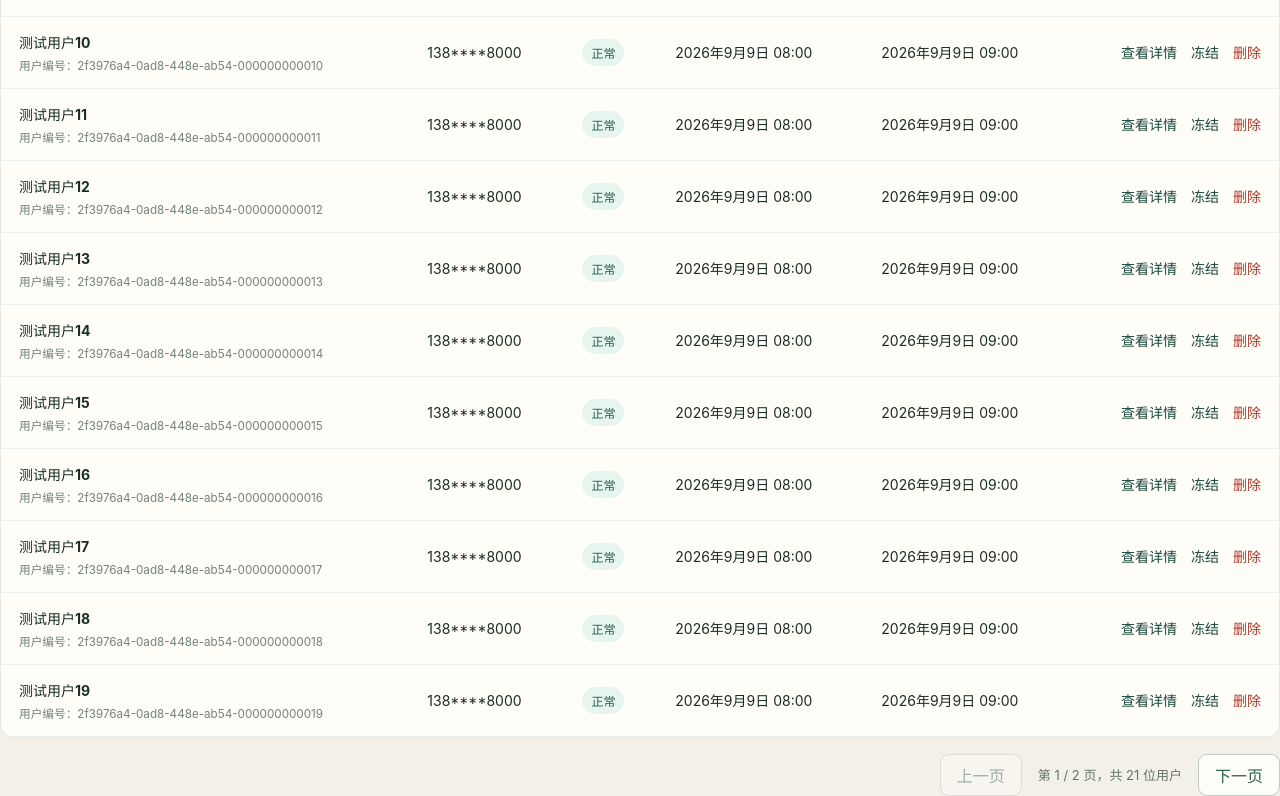
UsersPage › returns to the previous page when deleting the last user on the last page
(page scrolled)
Click the button "下一页" at (1239, 775), box [1198,754,1279,795]
(page scrolled)
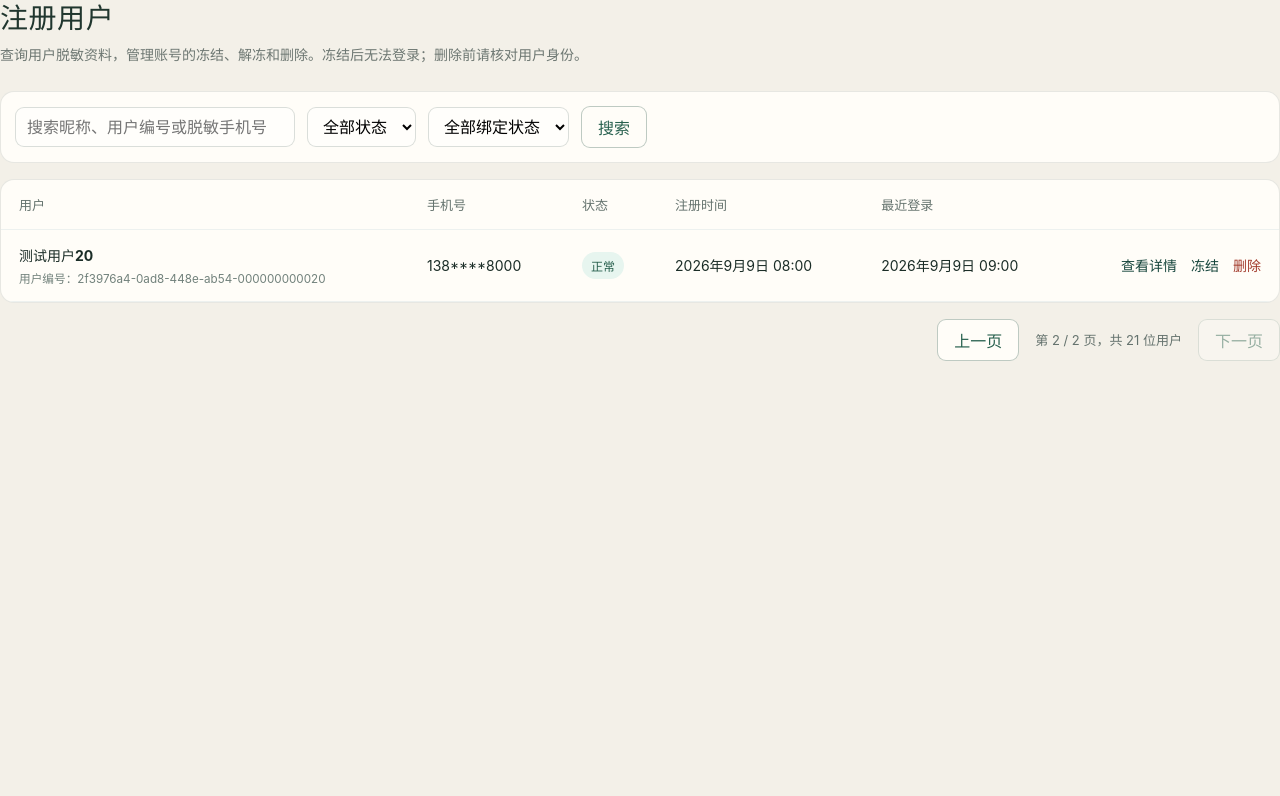
Check: the text "测试用户20" is shown, box [19,247,93,264]
Click the button "删除" at (1247, 265), box [1233,248,1261,282]
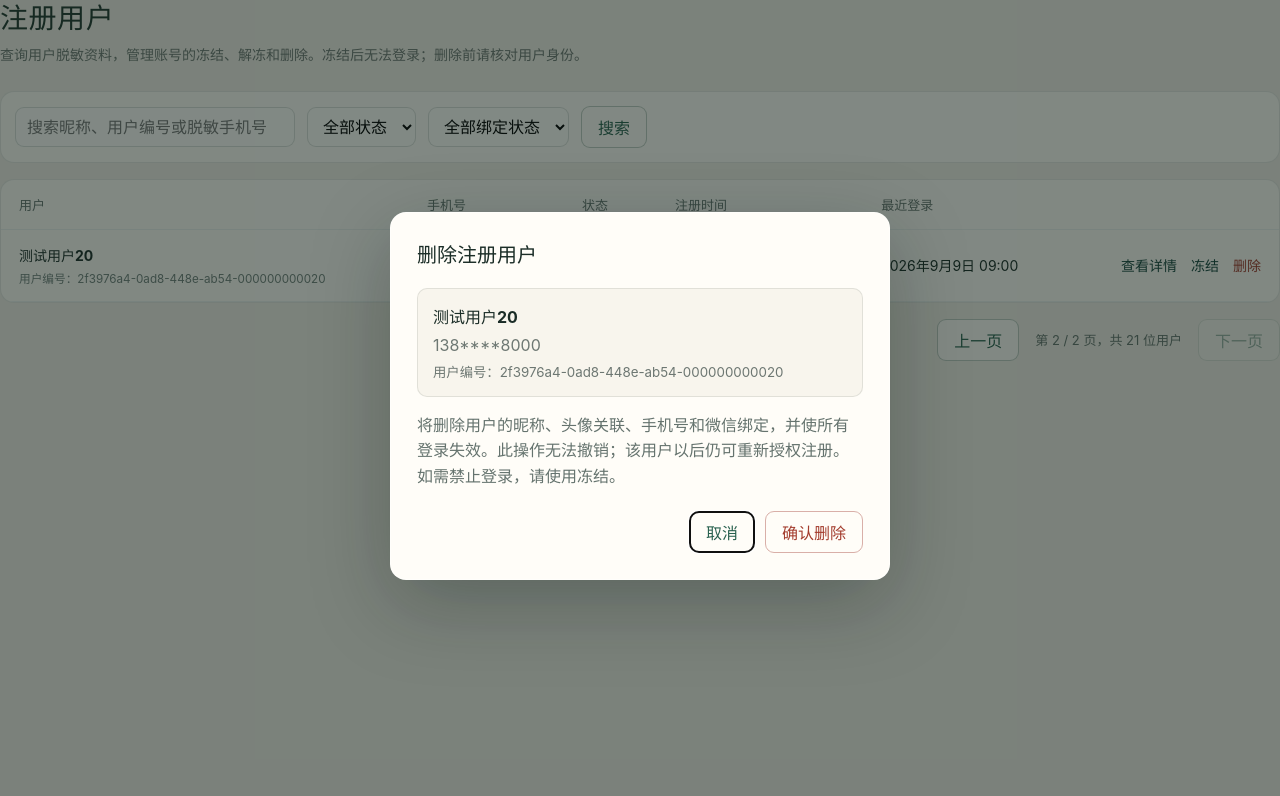
Click the button "确认删除" at (814, 532), box [765,511,863,553]
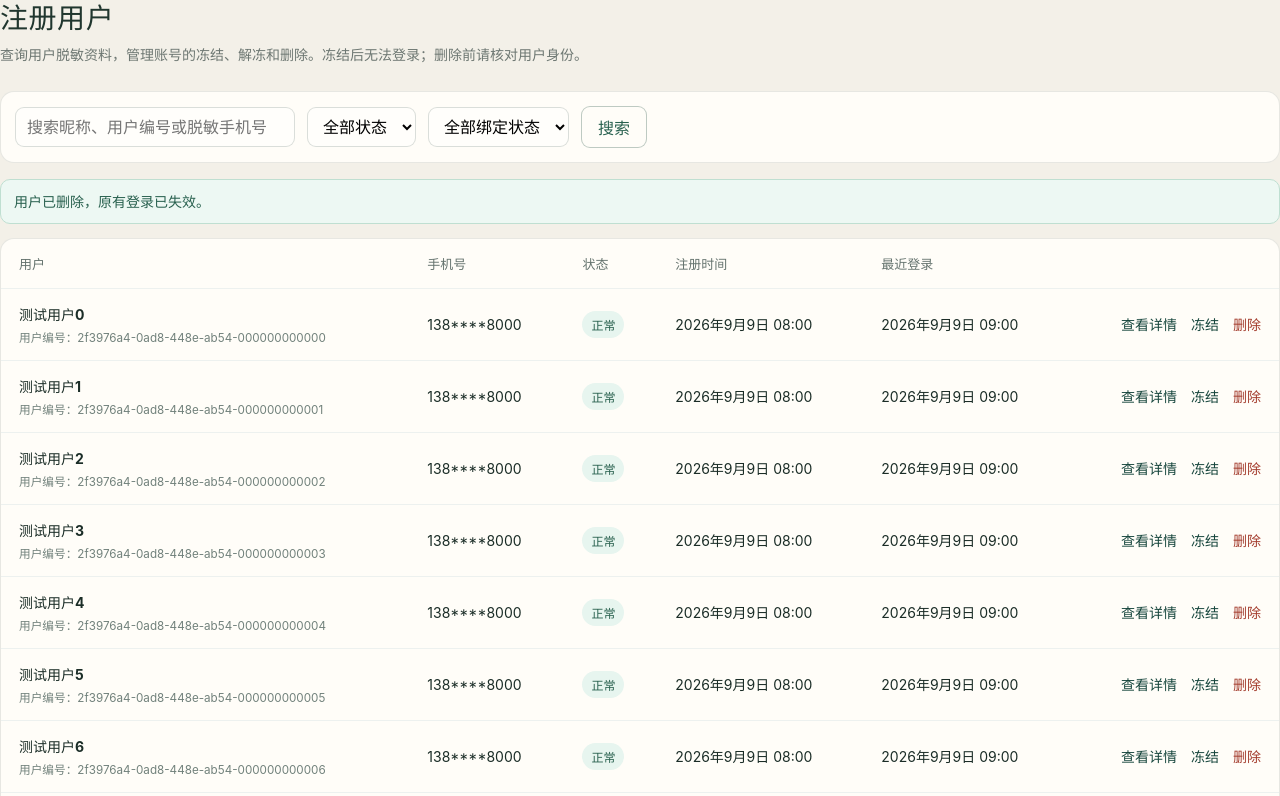
Check: the text "测试用户0" is shown, box [19,306,84,323]
Check: the text "测试用户20" is gone
